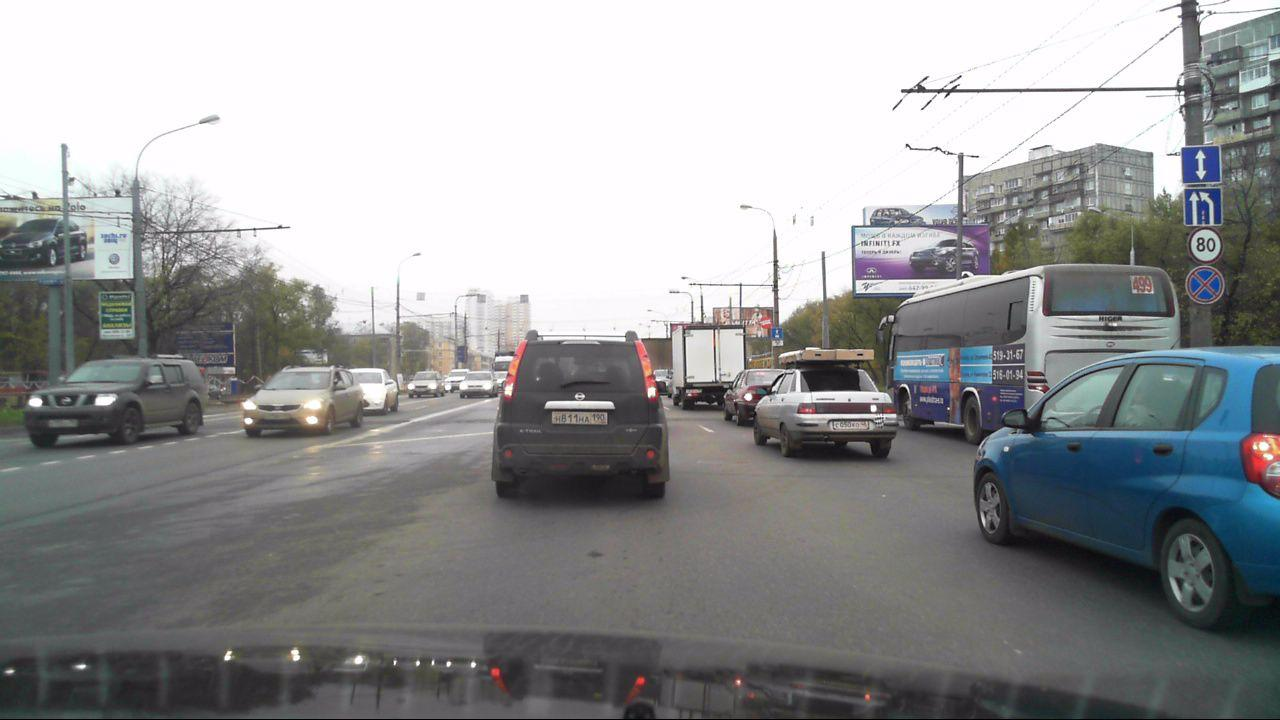3_24: (1186, 227, 1224, 264)
3_27: (1185, 265, 1224, 302)
5_14_1: (771, 328, 783, 340)
5_15_5: (1181, 185, 1224, 227)
5_8: (1181, 144, 1222, 184)
8_5_2: (772, 340, 783, 347)
